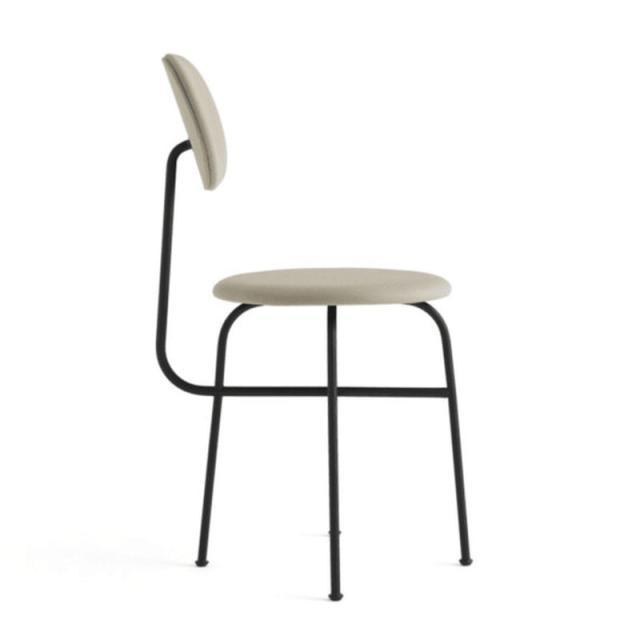chair: (140, 44, 476, 605), (138, 52, 472, 306)
